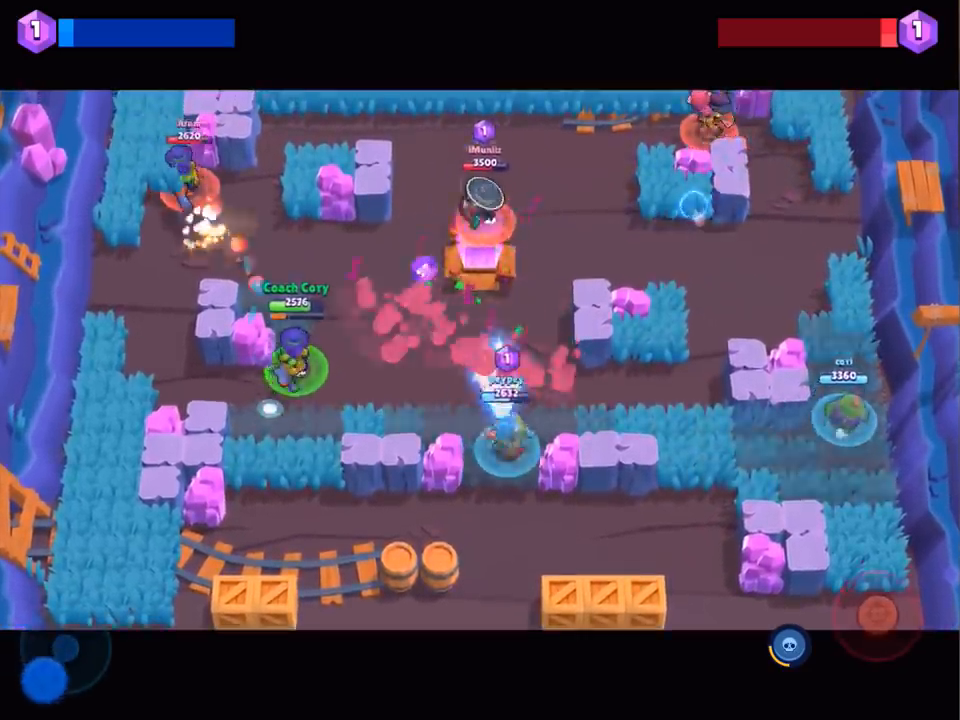move_stick: (27, 661, 59, 696)
red: (456, 146, 520, 254), (152, 133, 231, 213), (679, 92, 748, 161)
